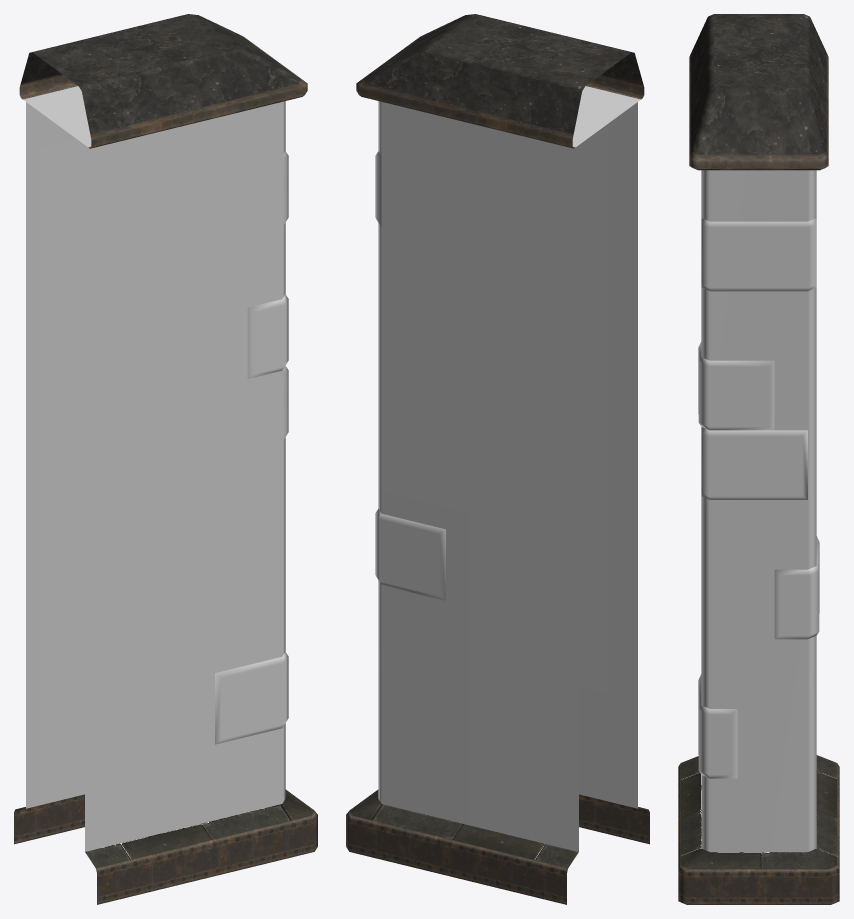
The picture shows the model from 3 angles, left to right: view 1: azimuth 30°, elevation 25°; view 2: azimuth 150°, elevation 25°; view 3: azimuth 270°, elevation 25°; orthographic projection. The views are drawn at different scales.
Parts seen in each view (by area): view 1: SM_Dowdun_Buttress_B_01_LOD0; view 2: SM_Dowdun_Buttress_B_01_LOD0; view 3: SM_Dowdun_Buttress_B_01_LOD0.
Boxes of the visible parts, bbox=[...] form: SM_Dowdun_Buttress_B_01_LOD0: bbox=[14, 14, 317, 904]; SM_Dowdun_Buttress_B_01_LOD0: bbox=[346, 14, 649, 904]; SM_Dowdun_Buttress_B_01_LOD0: bbox=[678, 14, 839, 904].
Size of the model in its own units: 4.39 by 15 by 2.8.
Materials: 3 (2 with a texture image).
